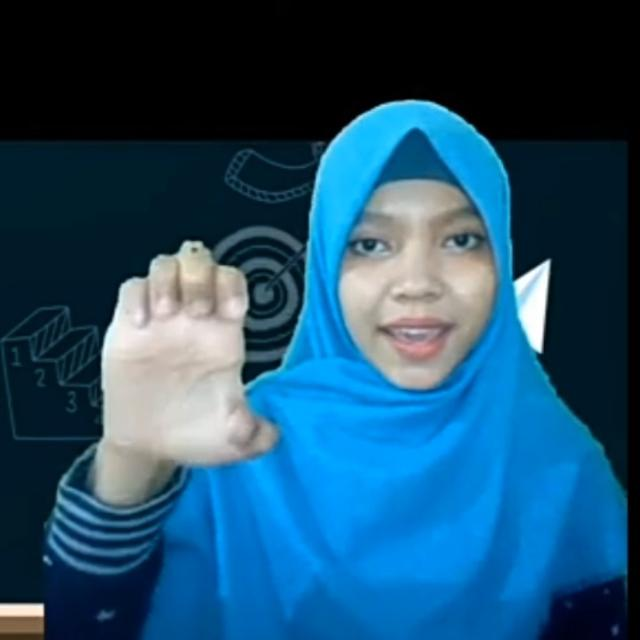E: (98, 240, 276, 464)
